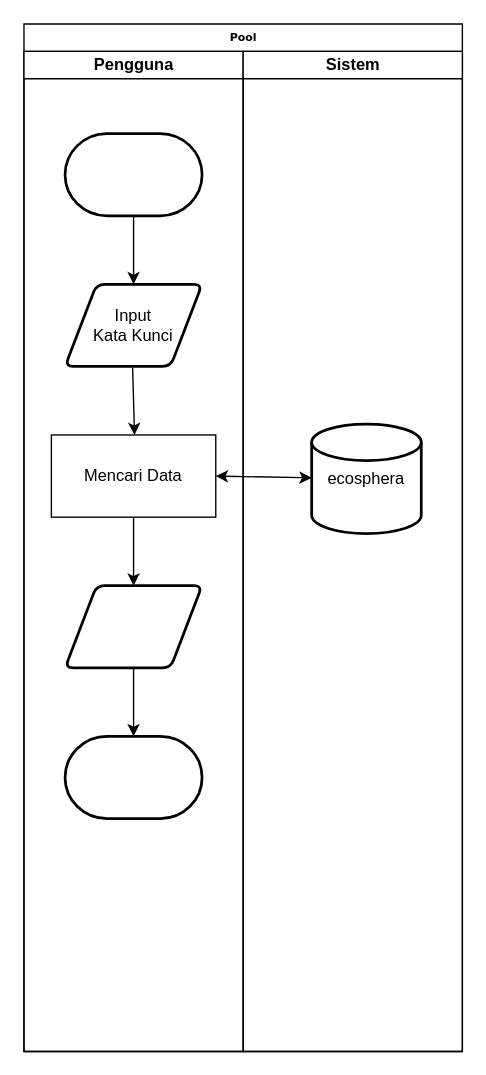
Image size: 486x1075. Some labels were removed from this diagram. The centre of each missing label's shape, as x and y in pixels:
"Data Pencarian" goes at point (133, 626).
"Mulai" goes at point (133, 174).
"Selesai" goes at point (133, 776).
